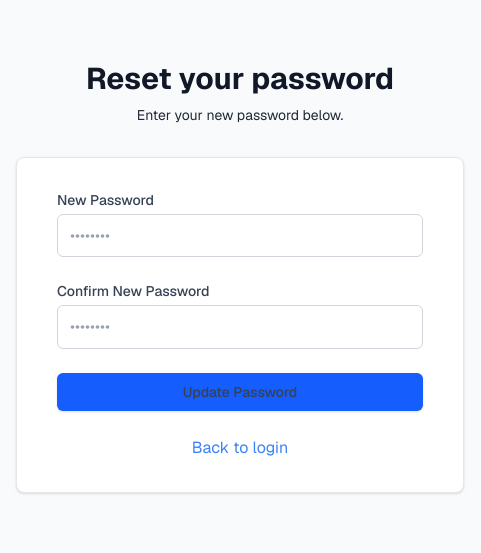
Test case: Reset Password Flow End-to-End › displays error message on update failure
Type "validPassword123" into the password field labelled "New Password".
click(240, 235); type("validPassword123")  # box [57,214,423,257]
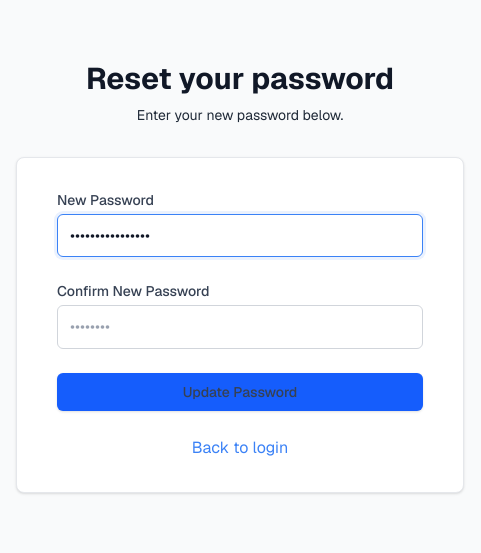
Type "validPassword123" into the password field labelled "Confirm New Password".
click(240, 327); type("validPassword123")  # box [57,305,423,349]
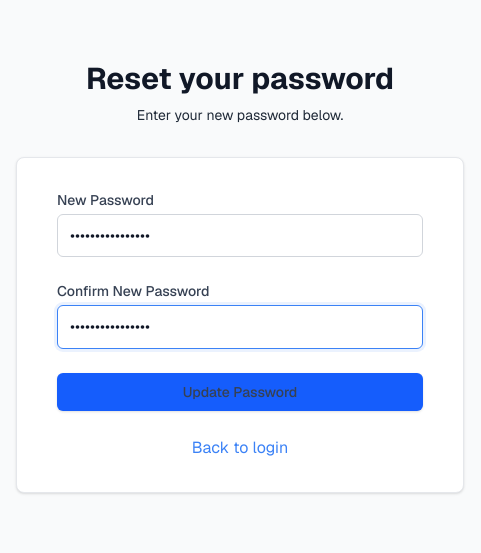
Click the button "Update Password".
click(240, 392)  # box [57,373,423,411]
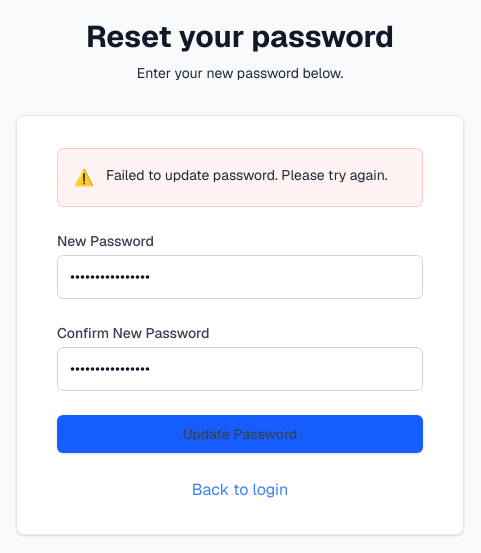
Expected: the heading "Reset your password" is shown, [86,17,394,56]
Now the text "Failed to update password. Please try again." is shown, box [106,165,388,185]
Now the text "⚠️" is shown, box [74,167,94,188]
